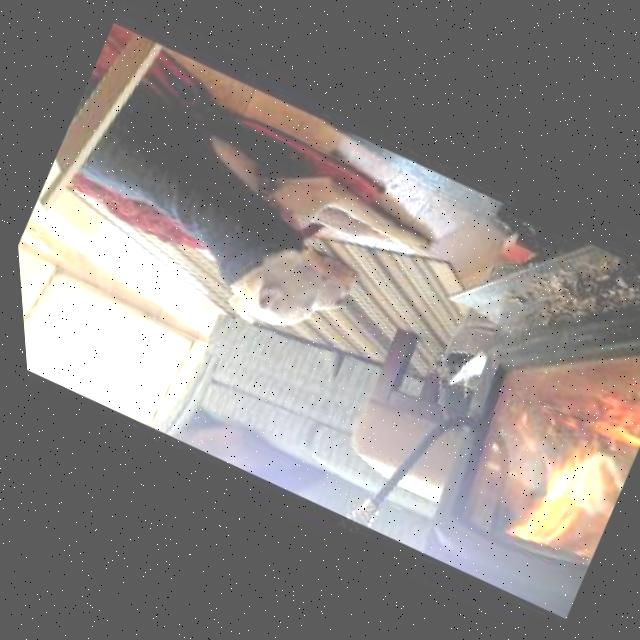Fire: (466, 368, 640, 579)
